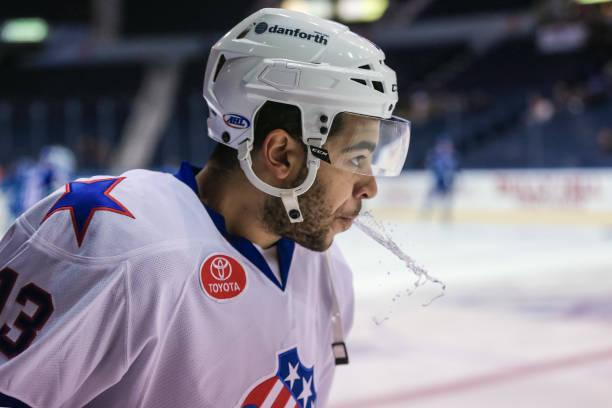Spitting: (199, 4, 442, 268)
